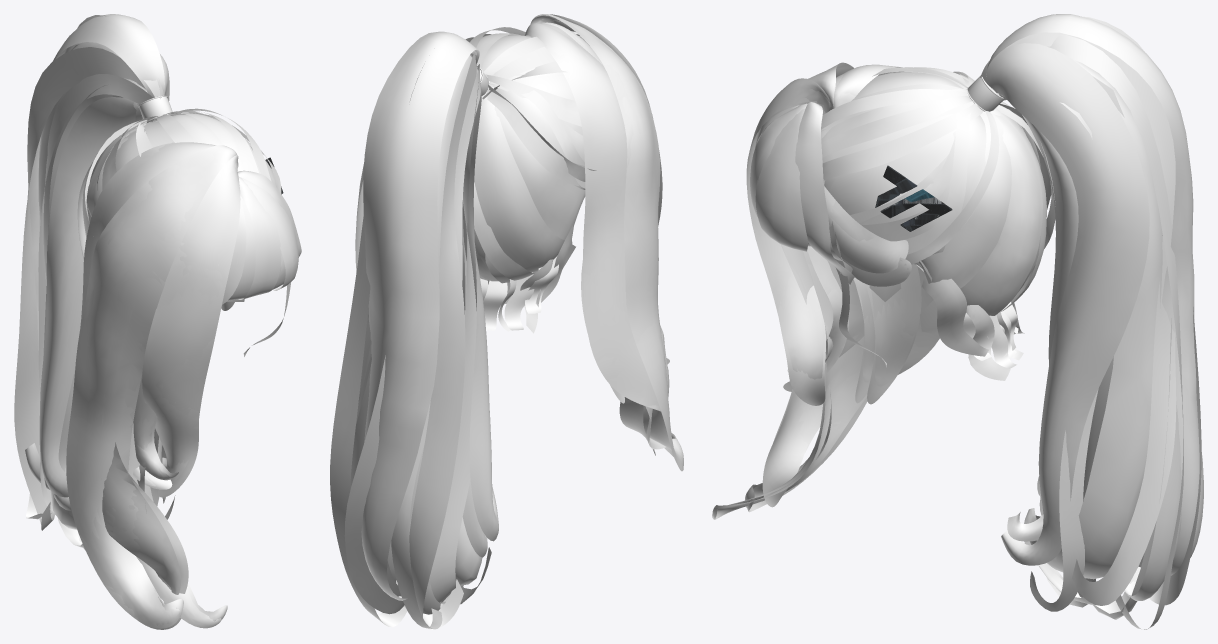
The model's file is bdor_hair_reina.glb.
3 views of the same model, side by side, from view 1: azimuth 30°, elevation 25°; view 2: azimuth 150°, elevation 25°; view 3: azimuth 270°, elevation 25° (orthographic). The views are drawn at different scales.
Visible parts, largest first — view 1: RN_La, RN_B0, RN_La_inv, RN_Base, RN_FT, RN_FT_inv, scr; view 2: RN_B0, RN_Base, RN_La, RN_La_inv, RN_B1; view 3: RN_B0, RN_Base, RN_La, RN_La_inv, RN_FT, RN_B1, RN_FT_inv, RN_Ba, EX_Rio_clip, RN_Ba_inv, Hl, scr.
Part boxes in pixels (bbox=[...]): RN_La: bbox=[66, 142, 239, 629]; RN_B0: bbox=[14, 14, 175, 550]; RN_La_inv: bbox=[70, 143, 240, 628]; RN_Base: bbox=[77, 108, 281, 260]; RN_FT: bbox=[222, 170, 301, 356]; RN_FT_inv: bbox=[222, 171, 301, 355]; scr: bbox=[138, 95, 172, 122]; RN_B0: bbox=[330, 31, 498, 629]; RN_Base: bbox=[465, 27, 596, 283]; RN_La: bbox=[525, 14, 683, 471]; RN_La_inv: bbox=[525, 14, 683, 469]; RN_B1: bbox=[480, 225, 573, 333]; RN_B0: bbox=[980, 14, 1203, 629]; RN_Base: bbox=[821, 67, 1055, 315]; RN_La: bbox=[712, 62, 933, 519]; RN_La_inv: bbox=[712, 63, 939, 519]; RN_FT: bbox=[750, 102, 886, 366]; RN_B1: bbox=[922, 274, 1024, 380]; RN_FT_inv: bbox=[750, 102, 886, 367]; RN_Ba: bbox=[823, 180, 922, 286]; EX_Rio_clip: bbox=[875, 165, 952, 231]; RN_Ba_inv: bbox=[828, 200, 921, 275]; Hl: bbox=[869, 264, 938, 334]; scr: bbox=[967, 75, 1003, 111].
Size of the model in its own units: 0.219 by 0.513 by 0.3749.
18 materials, 1 textured.
